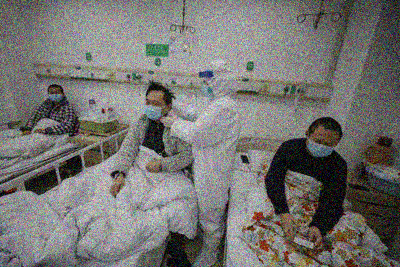with_mask: (308, 135, 338, 158), (143, 97, 164, 123), (199, 79, 213, 100), (48, 89, 61, 102)
